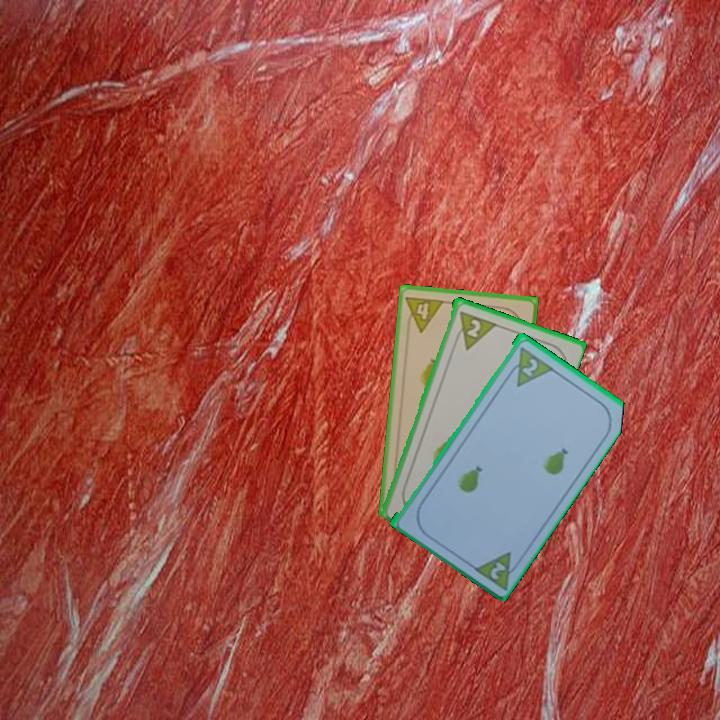2p: (449, 307, 498, 352), (518, 354, 541, 379), (486, 558, 509, 582)
4p: (402, 292, 447, 335)
